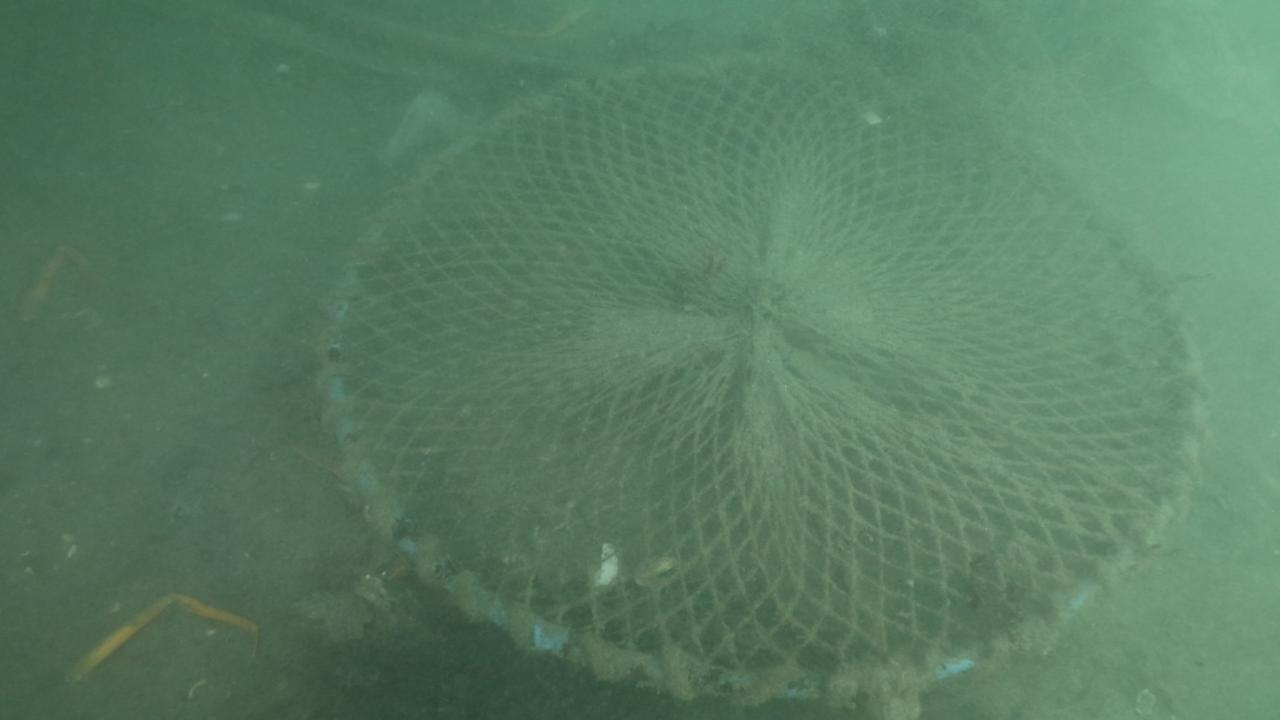circular fish trap: (321, 43, 1220, 708)
